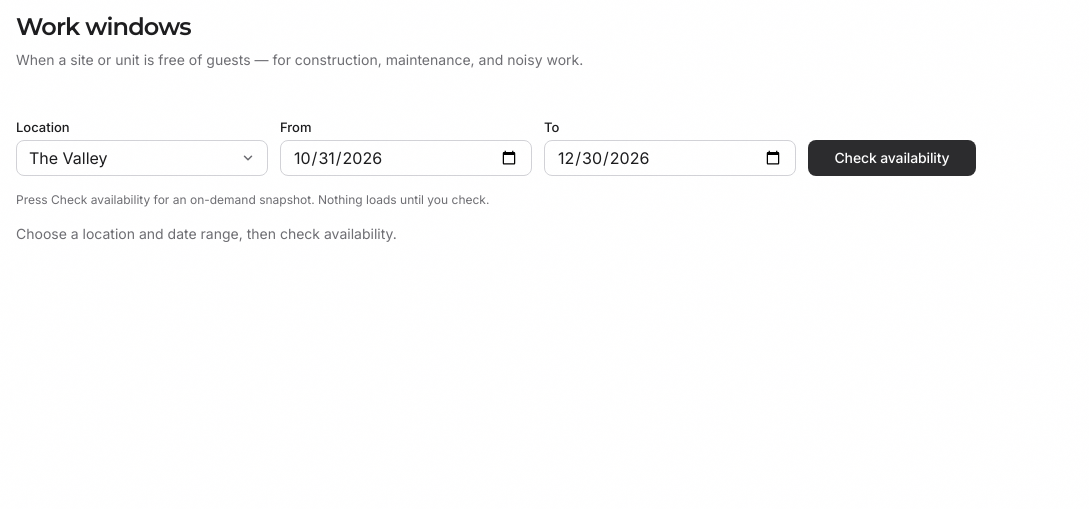
Test case: OpsWorkWindows › shows empty best windows copy when none exist
Click the button "Check availability" at (892, 158), box [808, 140, 976, 176]
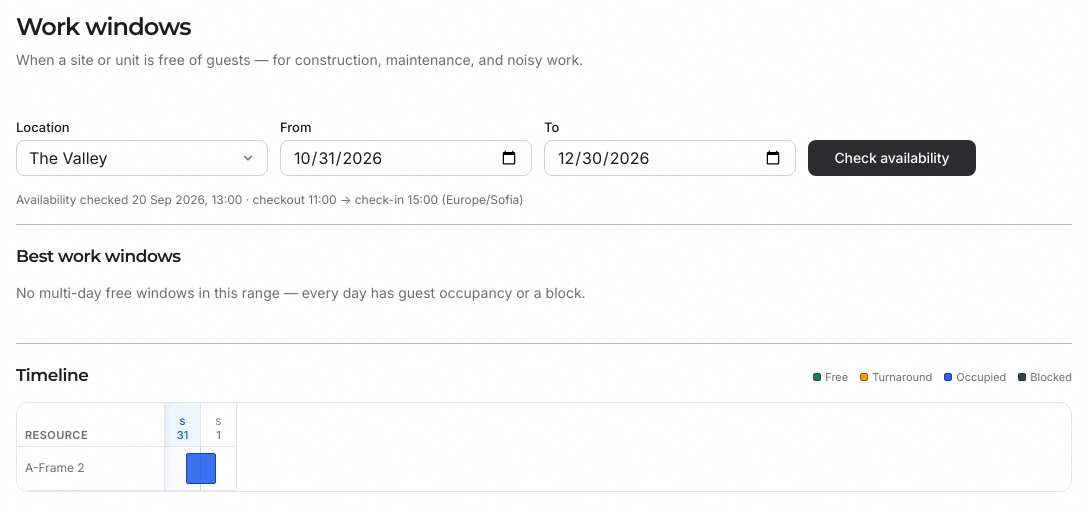
Check: the text "No multi-day free windows in this range — every day has guest occupancy or a block." is shown, box [16, 284, 586, 301]
